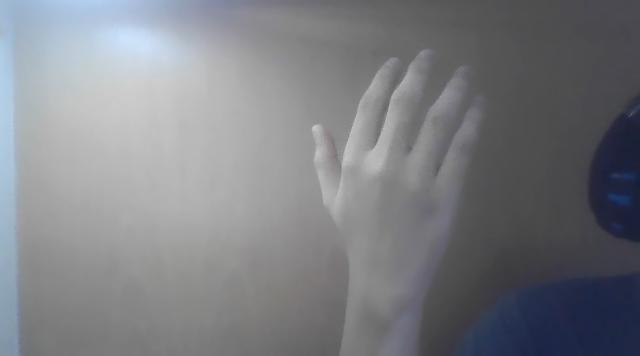backword: (310, 47, 488, 354)
